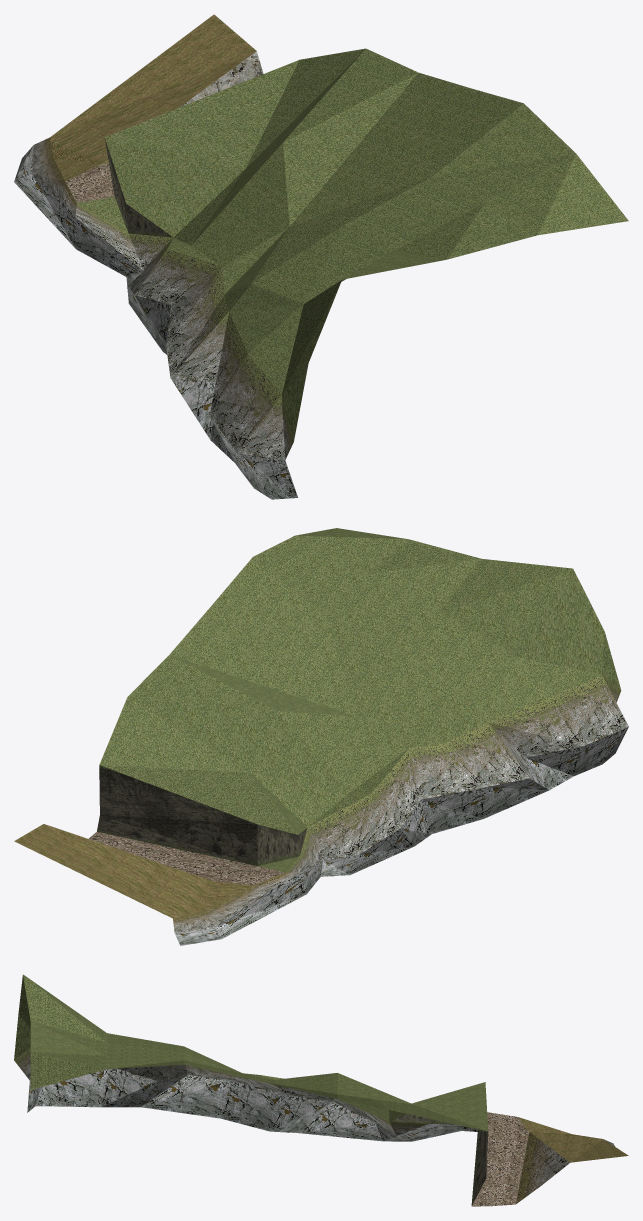
Rendered from cs_lodbit_71.obj.
3 views of the same model, one above another, from view 1: azimuth 30°, elevation 25°; view 2: azimuth 150°, elevation 25°; view 3: azimuth 270°, elevation 25° (orthographic). The views are drawn at different scales.
Parts seen in each view (by area): view 1: cs_lodbit_71; view 2: cs_lodbit_71; view 3: cs_lodbit_71.
Part boxes in pixels (x1,y1,x2,y2): cs_lodbit_71: (14, 14, 628, 499); cs_lodbit_71: (14, 528, 628, 945); cs_lodbit_71: (14, 974, 628, 1206).
Bounding box in the file's own units: 131 × 78.46 × 252.
Materials: 8 (8 with a texture image).
